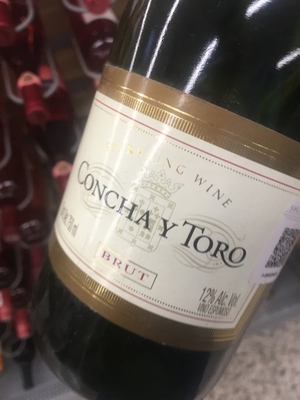brut: (49, 1, 300, 378)
